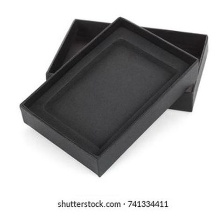foam_box: (14, 13, 202, 180), (41, 13, 211, 115)
